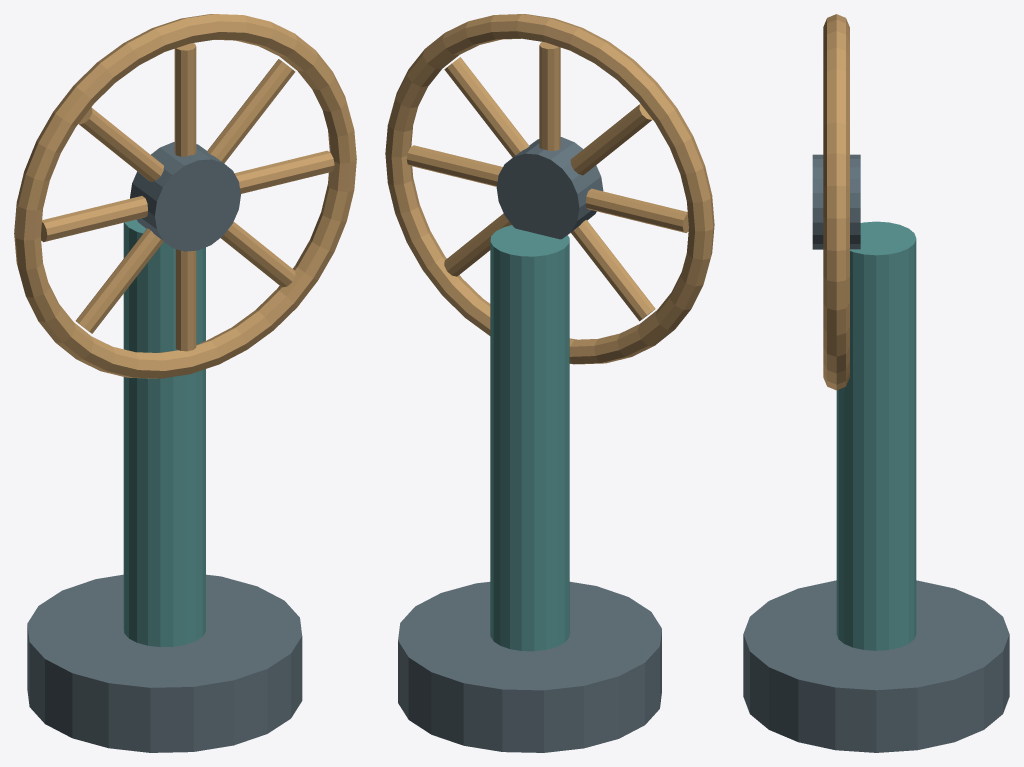
Rendered from BridgeHelm.glb.
3 views of the same model, side by side, from view 1: azimuth 30°, elevation 25°; view 2: azimuth 150°, elevation 25°; view 3: azimuth 270°, elevation 25° (orthographic). The views are drawn at different scales.
Parts seen in each view (by area): view 1: BridgeHelm; view 2: BridgeHelm; view 3: BridgeHelm.
Part boxes in pixels (box(x1,y1,x2,y2)): BridgeHelm: box(14, 14, 356, 752); BridgeHelm: box(385, 14, 714, 752); BridgeHelm: box(743, 14, 1009, 752).
Bounding box in the file's own units: 1.42 × 2.76 × 1.
